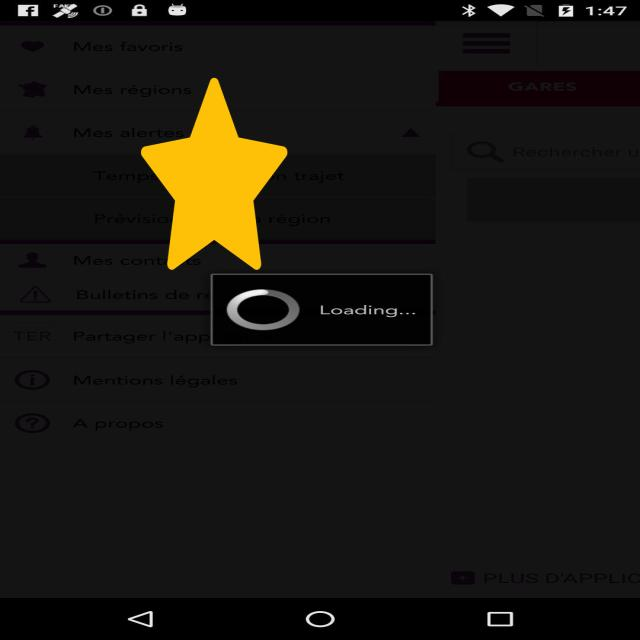forced continuity: (141, 78, 287, 270)
